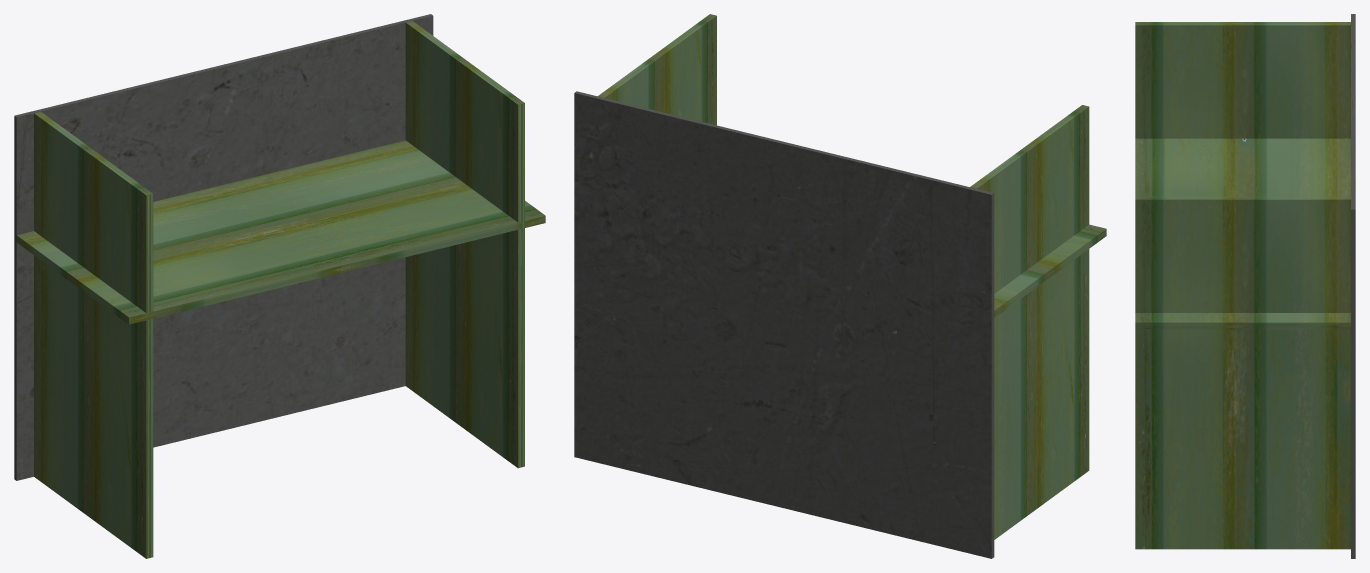
The model's file is dive_fillstation_room.glb.
3 renders of one model, left to right at view 1: azimuth 30°, elevation 25°; view 2: azimuth 150°, elevation 25°; view 3: azimuth 270°, elevation 25°, orthographic. The views are drawn at different scales.
Visible parts, largest first — view 1: floor, leftwall, backwall, rightwall; view 2: floor, leftwall, rightwall, backwall; view 3: rightwall, leftwall, backwall, floor.
Part boxes in pixels (bbox=[...]): floor: bbox=[14, 14, 433, 480]; leftwall: bbox=[34, 111, 153, 558]; backwall: bbox=[16, 140, 545, 324]; rightwall: bbox=[405, 21, 524, 468]; floor: bbox=[574, 91, 994, 558]; leftwall: bbox=[970, 105, 1089, 539]; rightwall: bbox=[598, 14, 716, 125]; backwall: bbox=[994, 224, 1106, 317]; rightwall: bbox=[1135, 196, 1350, 549]; leftwall: bbox=[1135, 22, 1350, 138]; backwall: bbox=[1135, 138, 1350, 329]; floor: bbox=[1351, 14, 1355, 558].
Bounding box in the file's own units: 6 × 5 × 2.86.
Materials: 2 (2 with a texture image).
